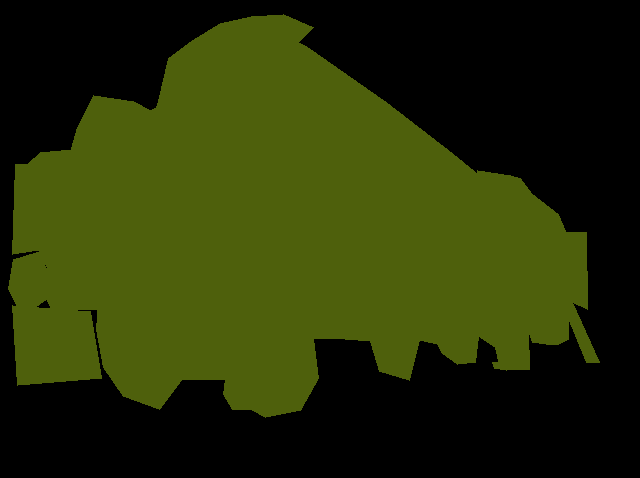Train: (8, 14, 600, 417), (12, 149, 102, 385)
